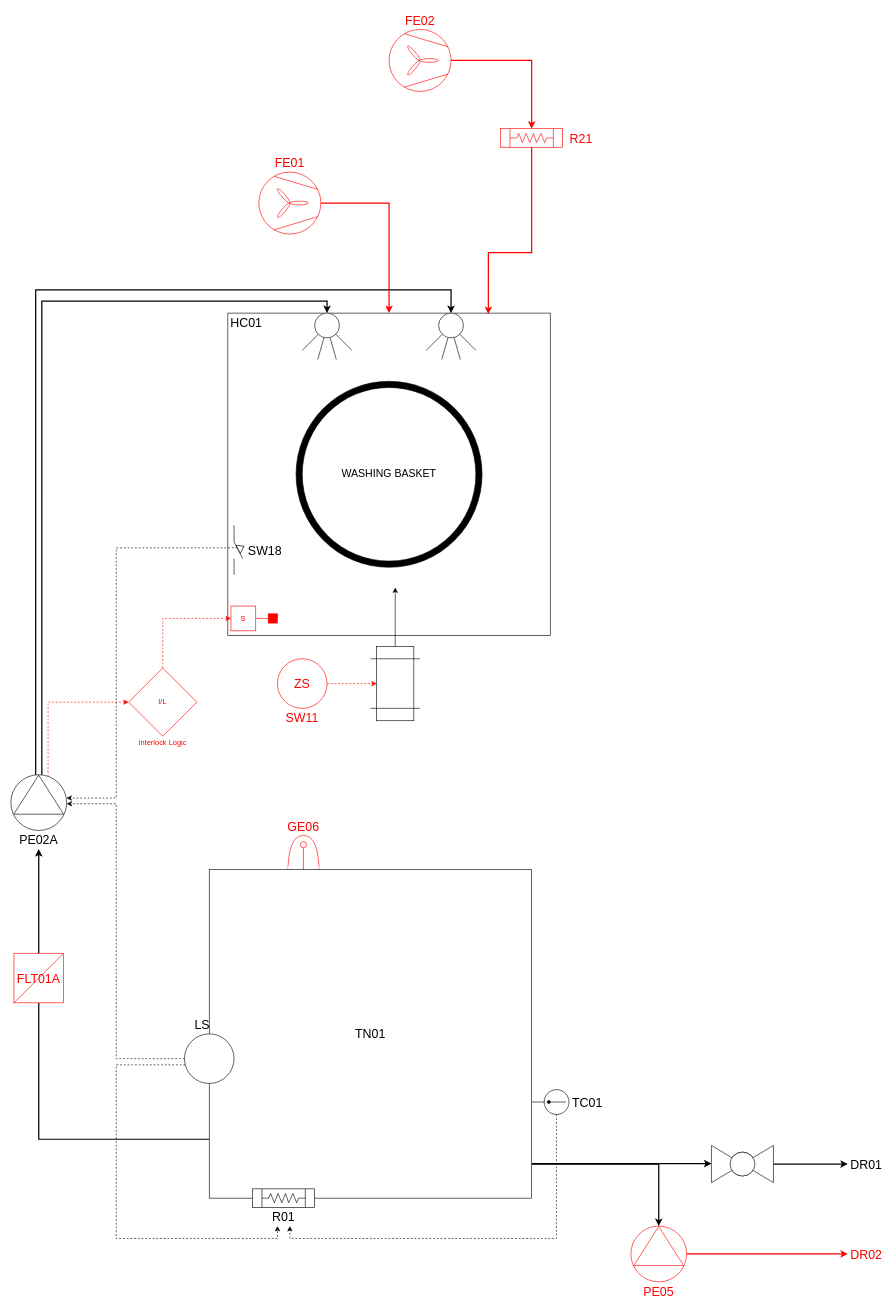
This 896x1311 diagram has some shape labels left out. Here are the shapes that lost their labels. From the top down, the box of each, then its label:
(376, 646, 414, 721): GE01
(184, 1033, 234, 1083): LSL
